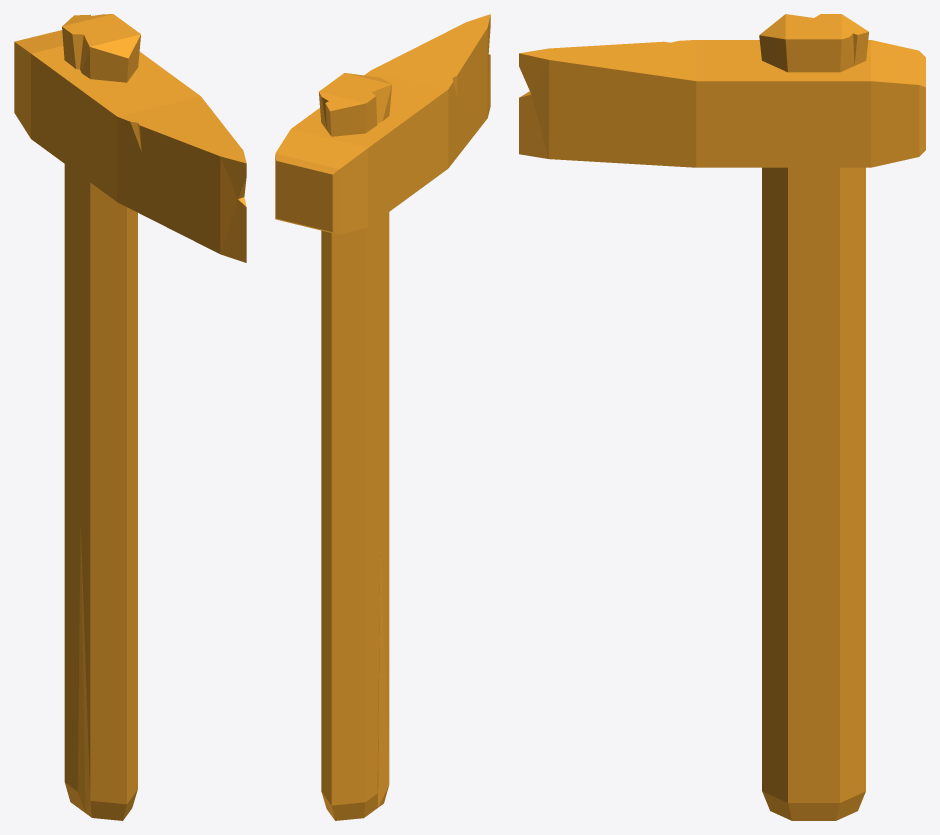
File: SM_Hammer_Blacksmith_C.fbx
3 views of the same model, side by side, from view 1: azimuth 30°, elevation 25°; view 2: azimuth 150°, elevation 25°; view 3: azimuth 270°, elevation 25° (orthographic). The views are drawn at different scales.
Parts seen in each view (by area): view 1: hammer-blacksmith-c; view 2: hammer-blacksmith-c; view 3: hammer-blacksmith-c.
Boxes of the visible parts, x1,y1,x2,y2 form: hammer-blacksmith-c: [14, 14, 246, 820]; hammer-blacksmith-c: [275, 14, 490, 820]; hammer-blacksmith-c: [519, 14, 925, 820].
Bounding box in the file's own units: 0.0472 × 0.4176 × 0.1963.
